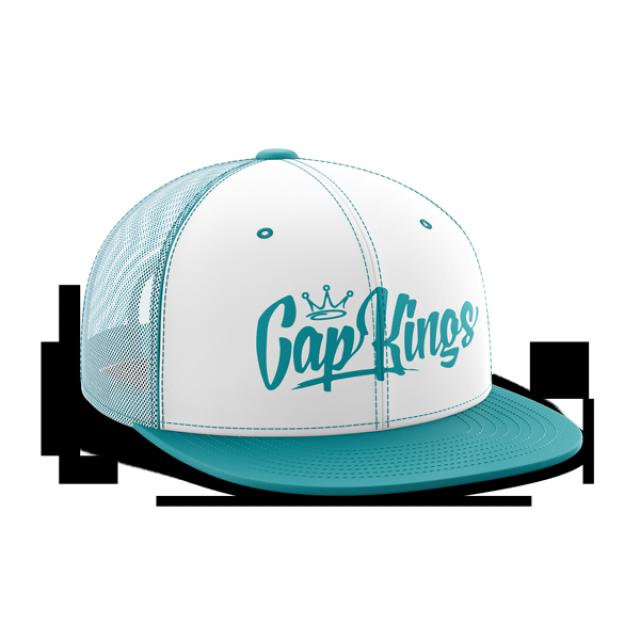mask: (75, 144, 605, 502)
